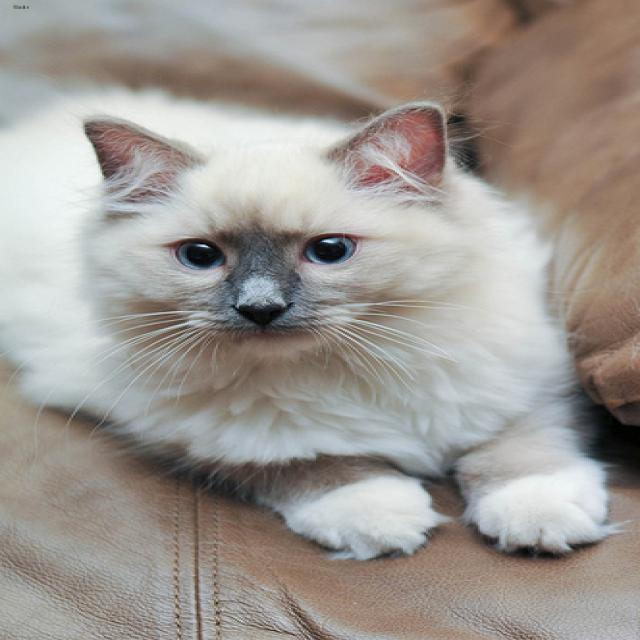Ragdoll: (83, 101, 443, 352)
